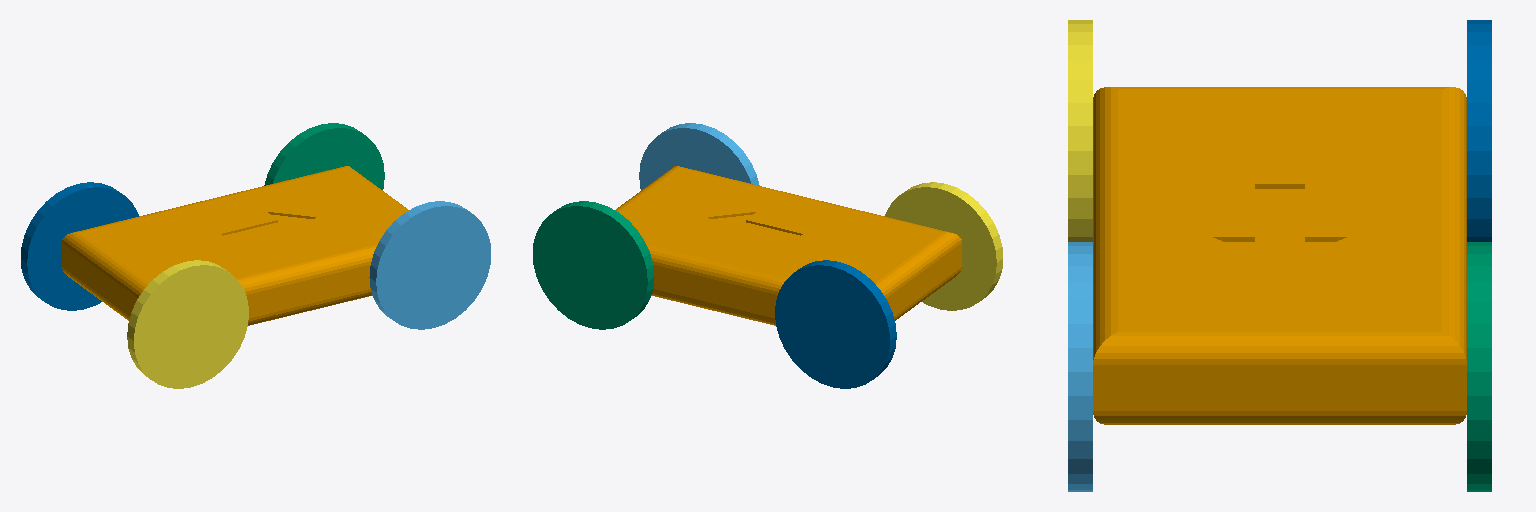
The robot description file, URDF, robot "carwheel":
<?xml version="1.0" encoding="utf-8"?>
<robot name="carwheel">
  <link name="real_body">
    <inertial>
      <origin
        xyz="0 0 0"
        rpy="0 0 0" />
      <mass
        value="3.94900947494756" />
      <inertia
        ixx="0.00773393995430153"
        ixy="0.0"
        ixz="0.0"
        iyy="0.0207892752411963"
        iyz="0.0"
        izz="0.0275077758026154" />
    </inertial>
    <visual>
      <origin
        xyz="0 0 0"
        rpy="0 0 0" />
      <geometry>
        <mesh filename="package://oatmeal_gazebo/simulation/models/carwheel/meshes/body.STL" />
      </geometry>
    </visual>
    <collision>
      <origin
        xyz="0 0 0"
        rpy="0 0 0" />
      <geometry>
        <mesh filename="package://oatmeal_gazebo/simulation/models/carwheel/meshes/body.STL" />
      </geometry>
    </collision>
  </link>
  <gazebo reference="real_body">
    <material>Gazebo/Orange</material>
  </gazebo>

  <link name="FR">
    <inertial>
      <origin
        xyz="0 0 0"
        rpy="0 0 0" />
      <mass
        value="0.0482548631591392" />
      <inertia
        ixx="1.97040691233152E-05"
        ixy="0.0"
        ixz="0.0"
        iyy="3.86038905273114E-05"
        iyz="0.0"
        izz="1.97040691233152E-05" />
    </inertial>
    <visual>
      <origin
        xyz="0 0 0"
        rpy="1.5707963267948966 0 0" />
      <geometry>
        <cylinder radius="0.05" length="0.01"/>
        <!-- <mesh filename="package://oatmeal_gazebo/simulation/models/carwheel/meshes/FR.STL" /> -->
      </geometry>
    </visual>
    <collision>
      <origin
        xyz="0 0 0"
        rpy="1.5707963267948966 0 0" />
      <geometry>
        <cylinder radius="0.051" length="0.0001"/>
      </geometry>
    </collision>
  </link>
  <gazebo reference="FR">
    <material>Gazebo/Blue</material>
  </gazebo>

  <joint
    name="Joint_FR"
    type="revolute">
    <origin
      xyz="0.095 -0.08 0"
      rpy="0 0 0" />
    <parent
      link="real_body" />
    <child
      link="FR" />
    <axis
      xyz="0 1 0" />
    <limit
      lower="-1000000"
      upper="1000000"
      effort="50"
      velocity="200" />
    <dynamics
      damping="0"
      friction="0" />
  </joint>

  <link name="FL">
    <inertial>
      <origin
        xyz="0 0 0"
        rpy="0 0 0" />
      <mass
        value="0.0482548631591393" />
      <inertia
        ixx="1.97040691233152E-05"
        ixy="0.0"
        ixz="0.0"
        iyy="3.86038905273114E-05"
        iyz="0.0"
        izz="1.97040691233152E-05" />
    </inertial>
    <visual>
      <origin
        xyz="0 0 0"
        rpy="1.5707963267948966 0 0" />
      <geometry>
        <cylinder radius="0.05" length="0.01"/>
        <!-- <mesh filename="package://oatmeal_gazebo/simulation/models/carwheel/meshes/FL.STL" /> -->
      </geometry>
    </visual>
    <collision>
      <origin
        xyz="0 0 0"
        rpy="1.5707963267948966 0 0" />
      <geometry>
        <cylinder radius="0.051" length="0.0001"/>
      </geometry>
    </collision>
  </link>
  <gazebo reference="FL">
    <material>Gazebo/Green</material>
  </gazebo>

  <joint name="Joint_FL"
    type="revolute">
    <origin
      xyz="0.095 0.08 0"
      rpy="0 0 0" />
    <parent
      link="real_body" />
    <child
      link="FL" />
    <axis
      xyz="0 1 0" />
    <limit
      lower="-1000000"
      upper="1000000"
      effort="50"
      velocity="200" />
    <dynamics
      damping="0"
      friction="0" />
  </joint>

  <link name="HR">
    <inertial>
      <origin
        xyz="0 0 0"
        rpy="0 0 0" />
      <mass
        value="0.0482548631591392" />
      <inertia
        ixx="1.97040691233152E-05"
        ixy="0.0"
        ixz="0.0"
        iyy="3.86038905273114E-05"
        iyz="0.0"
        izz="1.97040691233152E-05" />
    </inertial>
    <visual>
      <origin
        xyz="0 0 0"
        rpy="1.5707963267948966 0 0" />
      <geometry>
        <cylinder radius="0.05" length="0.01"/>/
        <!-- <mesh filename="package://oatmeal_gazebo/simulation/models/carwheel/meshes/HR.STL" /> -->
      </geometry>
    </visual>
    <collision>
      <origin
        xyz="0 0 0"
        rpy="1.5707963267948966 0 0" />
      <geometry>
        <cylinder radius="0.051" length="0.0001"/>
      </geometry>
    </collision>
  </link>
  <gazebo reference="HR">
    <material>Gazebo/Yellow</material>
  </gazebo>

  <joint name="Joint_HR"
    type="revolute">
    <origin
      xyz="-0.115 -0.08 0"
      rpy="0 0 0" />
    <parent
      link="real_body" />
    <child
      link="HR" />
    <axis
      xyz="0 1 0" />
    <limit
      lower="-1000000"
      upper="1000000"
      effort="50"
      velocity="200" />
    <dynamics
      damping="0"
      friction="0" />
  </joint>

  <link name="HL">
    <inertial>
      <origin
        xyz="0 0 0"
        rpy="0 0 0" />
      <mass
        value="0.0482548631591393" />
      <inertia
        ixx="1.97040691233152E-05"
        ixy="0.0"
        ixz="0.0"
        iyy="3.86038905273114E-05"
        iyz="0.0"
        izz="1.97040691233152E-05" />
    </inertial>
    <visual>
      <origin
        xyz="0 0 0"
        rpy="1.5707963267948966 0 0" />
      <geometry>
        <cylinder radius="0.05" length="0.01"/>
      </geometry>
    </visual>
    <collision>
      <origin
        xyz="0 0 0"
        rpy="1.5707963267948966 0 0" />
      <geometry>
        <cylinder radius="0.051" length="0.0001"/>
      </geometry>
    </collision>
  </link>
  <gazebo reference="HL">
    <material>Gazebo/Red</material>
  </gazebo>

  <joint name="Joint_HL"
    type="revolute">
    <origin
      xyz="-0.115 0.08 0"
      rpy="0 0 0" />
    <parent
      link="real_body" />
    <child
      link="HL" />
    <axis
      xyz="0 1 0" />
    <limit
      lower="-1000000"
      upper="1000000"
      effort="50"
      velocity="200" />
    <dynamics
      damping="0"
      friction="0" />
  </joint>
</robot>

--- What the picture shows (computed from the rendered views, not written in the file) ---
The picture shows the robot from 3 angles, left to right: view 1: azimuth 30°, elevation 25°; view 2: azimuth 150°, elevation 25°; view 3: azimuth 270°, elevation 25°; orthographic projection.
Robot: carwheel — 5 links, 4 joints (4 revolute); root link real_body; default pose: all joints at 0.
Links seen in each view (by area): view 1: real_body, FR, HR, HL, FL; view 2: real_body, FL, HL, HR, FR; view 3: real_body, FR, FL, HR, HL.
Link boxes in pixels (box(x1,y1,x2,y2)): real_body: box(62, 166, 408, 325); FR: box(369, 201, 490, 329); HR: box(127, 260, 248, 388); HL: box(21, 182, 138, 310); FL: box(264, 123, 384, 189); real_body: box(615, 166, 961, 325); FL: box(533, 201, 654, 329); HL: box(775, 260, 896, 388); HR: box(885, 182, 1002, 310); FR: box(639, 123, 759, 189); real_body: box(1093, 87, 1466, 424); FR: box(1068, 242, 1092, 491); FL: box(1467, 242, 1491, 491); HR: box(1068, 20, 1092, 241); HL: box(1467, 20, 1491, 241).
Bounding box of the posed robot: 0.31 × 0.17 × 0.1 m (x, y, z).
1 mesh visuals loaded from 1 distinct referenced files (1 binary STL).